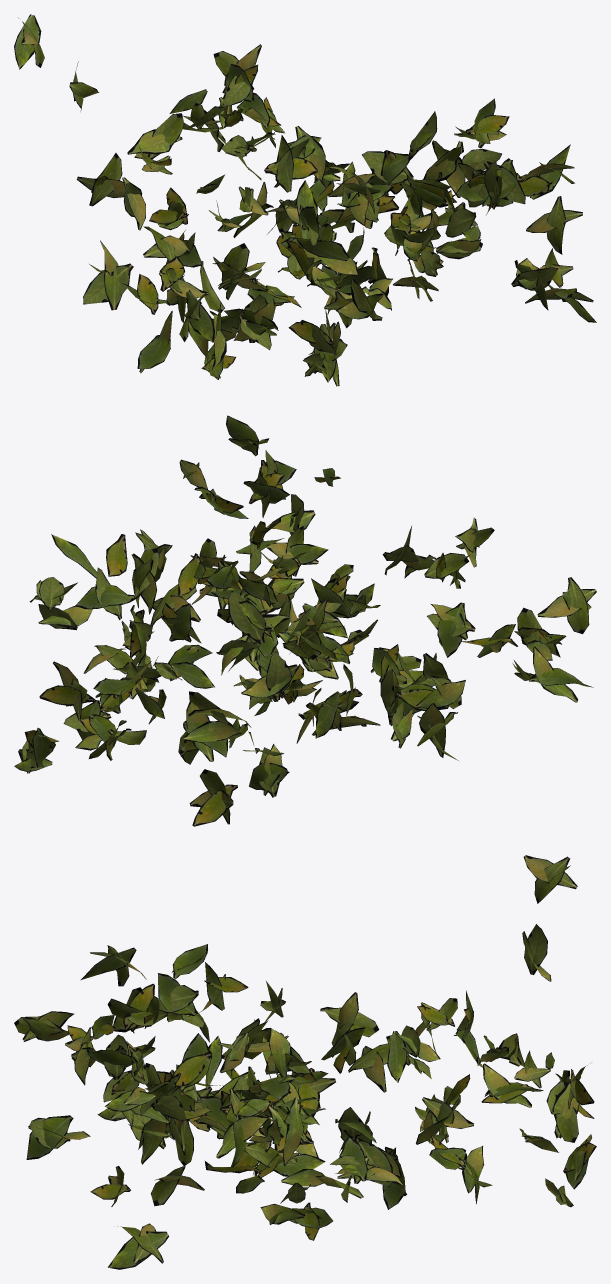
Rendered from island_tree_02_L1_hojas.glb.
The picture shows the model from 3 angles, top to bottom: view 1: azimuth 30°, elevation 25°; view 2: azimuth 150°, elevation 25°; view 3: azimuth 270°, elevation 25°; orthographic projection. The views are drawn at different scales.
Visible parts, largest first — view 1: island_tree_02_LOD0; view 2: island_tree_02_LOD0; view 3: island_tree_02_LOD0.
Part boxes in pixels (x1=…): island_tree_02_LOD0: x1=14, y1=14, x2=596, y2=386; island_tree_02_LOD0: x1=14, y1=415, x2=596, y2=826; island_tree_02_LOD0: x1=14, y1=855, x2=596, y2=1269.
Bounding box in the file's own units: 3.87 × 1.88 × 3.94.
1 material, 1 textured.
